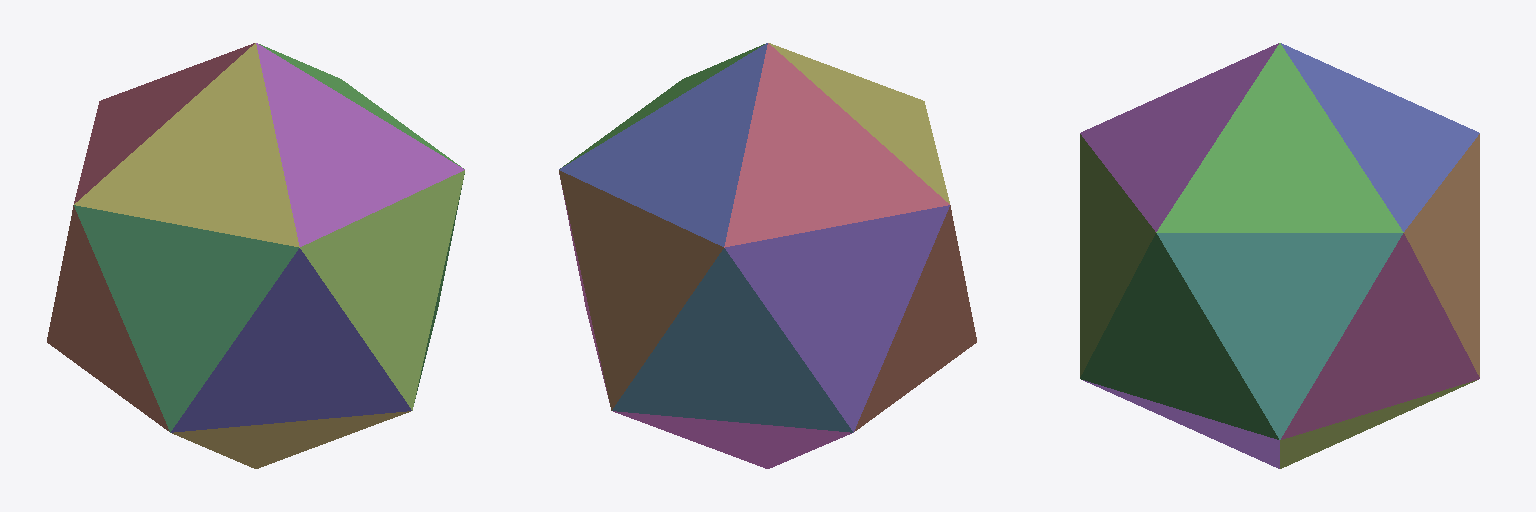
File: icosahedron.obj
The picture shows the model from 3 angles: view 1: azimuth 30°, elevation 25°; view 2: azimuth 150°, elevation 25°; view 3: azimuth 270°, elevation 25°; orthographic projection.
Size of the model in its own units: 1.79 by 2 by 1.7.